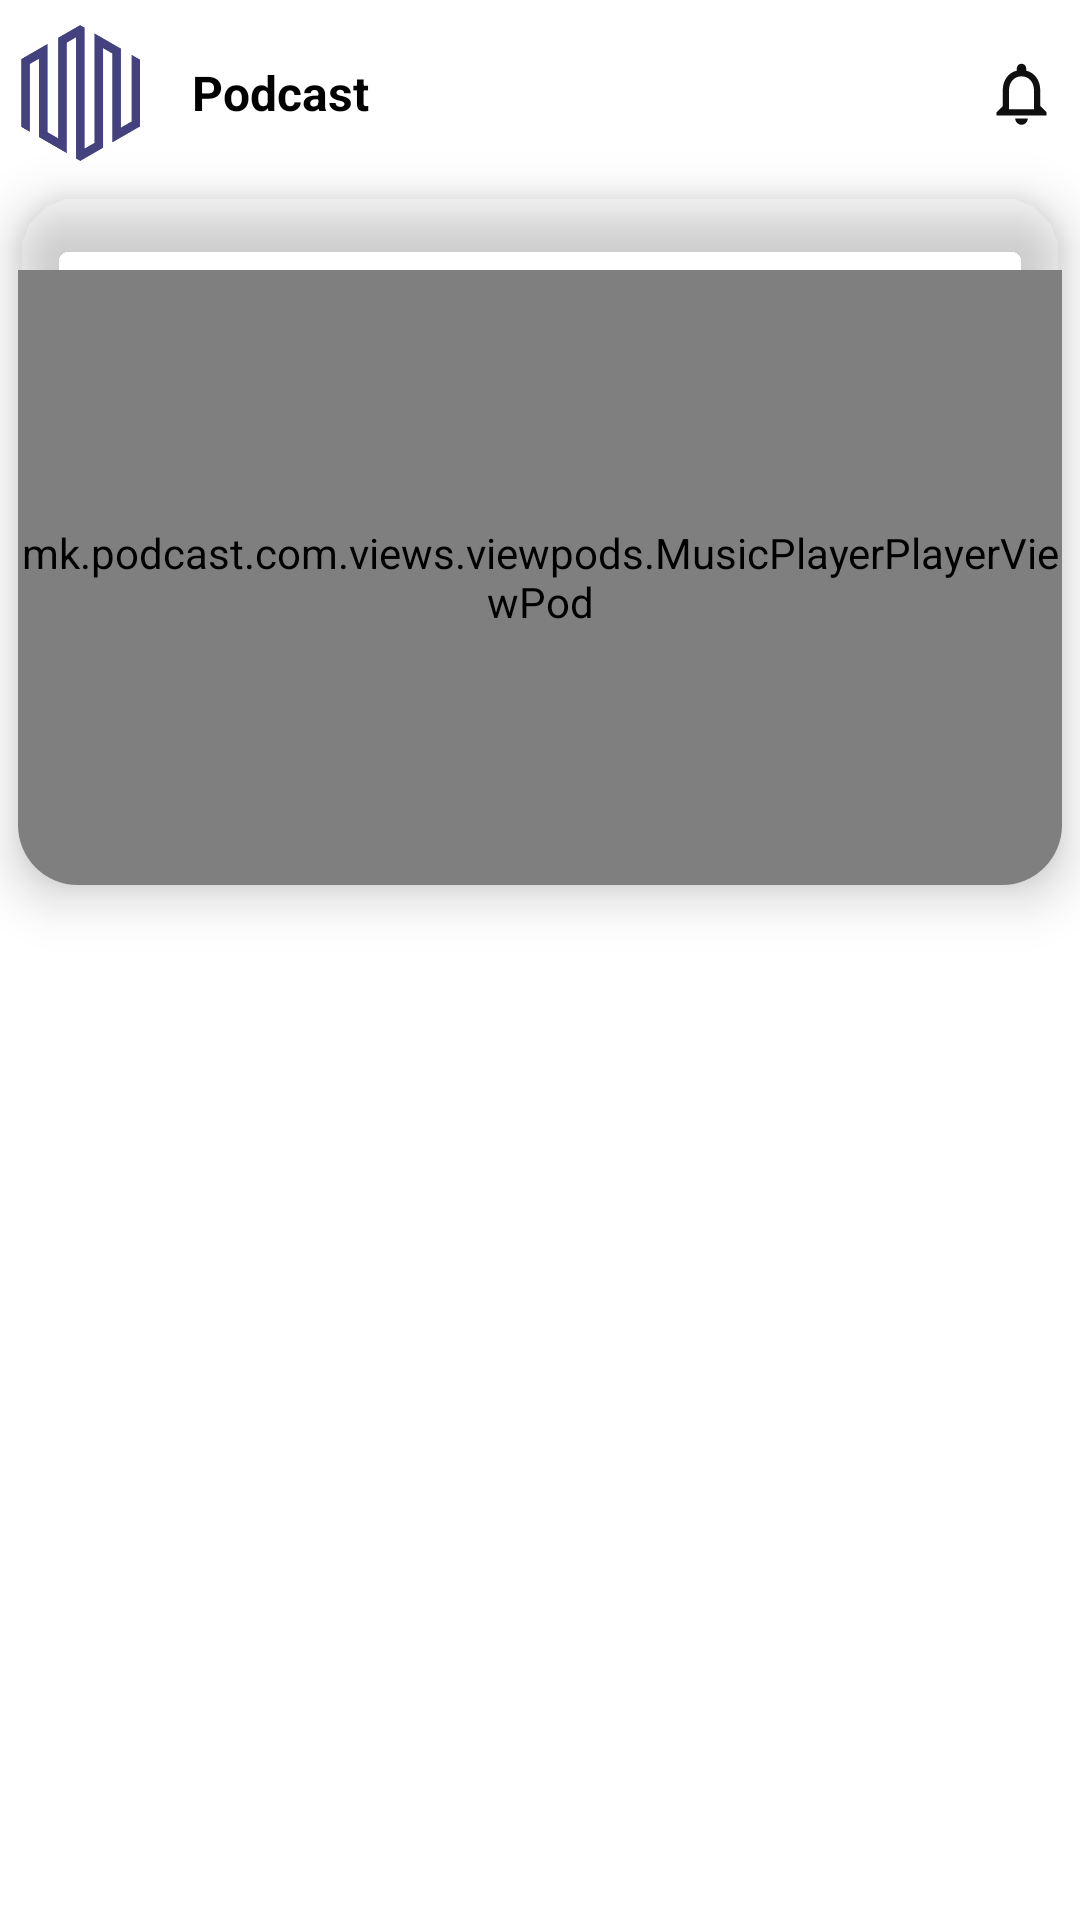

Named icons in this screenshot (1080px×1920px) and their bounding boxes, (x1, y1, x2, y2):
notifications none: (996, 63, 1047, 125)
